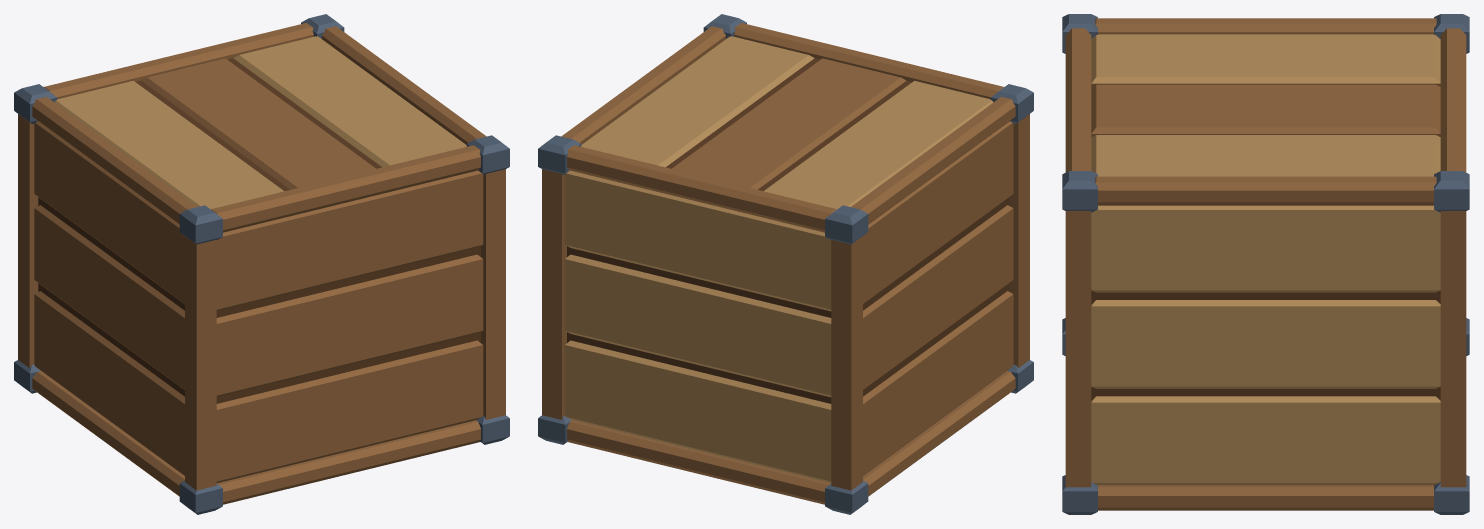
The model's file is Crate_24.glb.
The picture shows the model from 3 angles, left to right: view 1: azimuth 30°, elevation 25°; view 2: azimuth 150°, elevation 25°; view 3: azimuth 270°, elevation 25°; orthographic projection. The views are drawn at different scales.
Parts seen in each view (by area): view 1: Crate_24; view 2: Crate_24; view 3: Crate_24.
Boxes of the visible parts, box(x1,y1,x2,y2) form: Crate_24: box(14, 14, 509, 514); Crate_24: box(538, 14, 1033, 514); Crate_24: box(1062, 14, 1469, 514).
Bounding box in the file's own units: 2.53 × 2.29 × 2.53.
